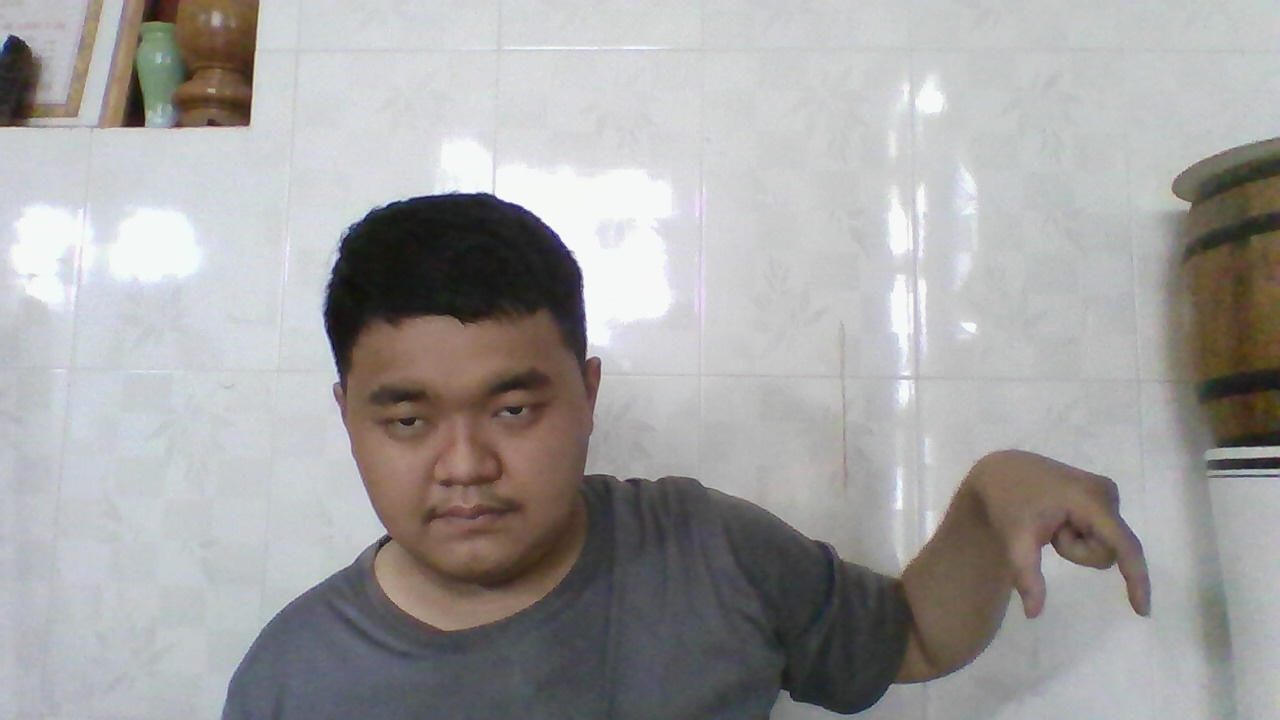Q: (980, 448, 1160, 628)
